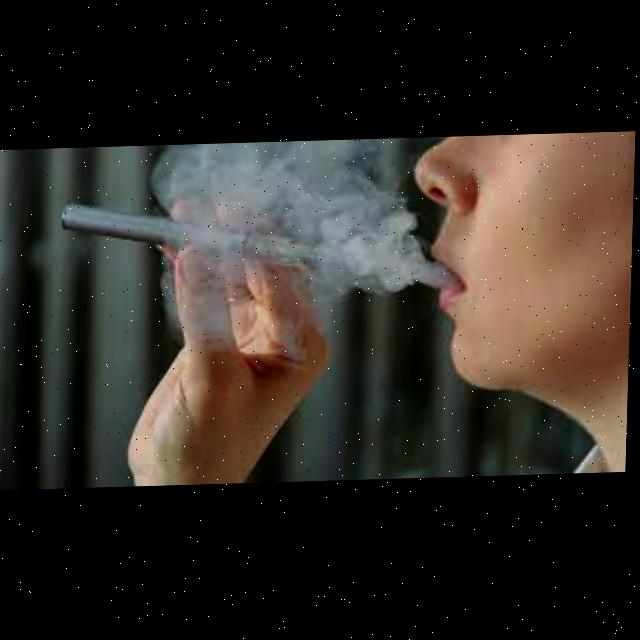vape: (61, 194, 354, 286)
